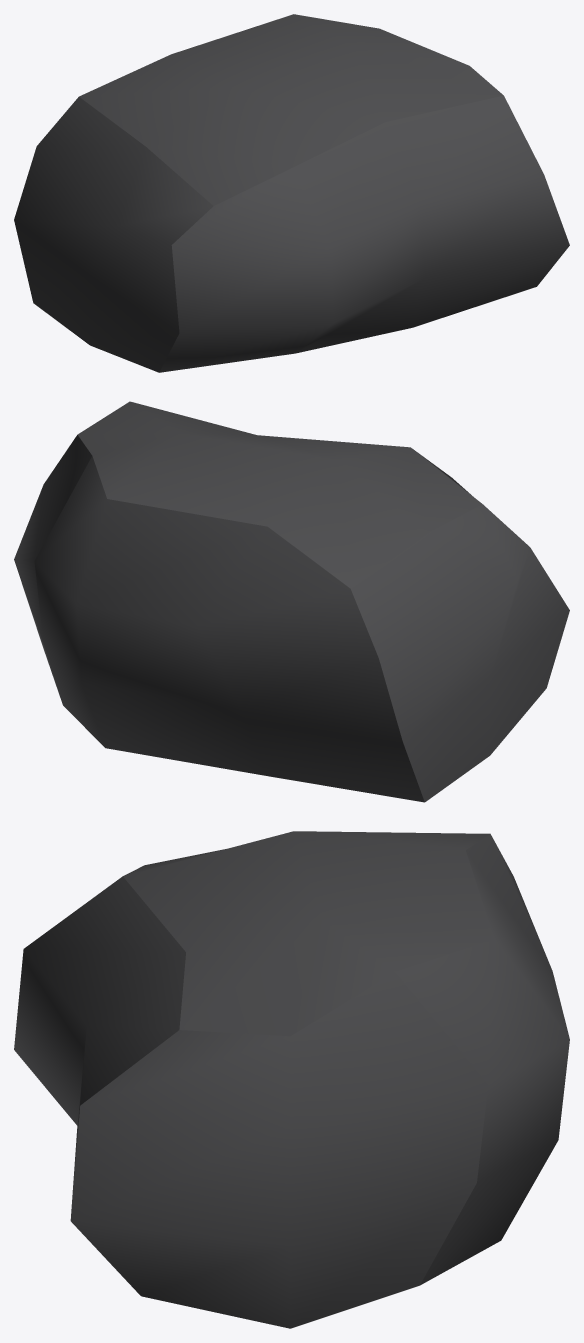
File: Asset_Rock_Mesh.fbx
3 views of the same model, one above another, from view 1: azimuth 30°, elevation 25°; view 2: azimuth 150°, elevation 25°; view 3: azimuth 270°, elevation 25° (orthographic). The views are drawn at different scales.
Visible parts, largest first — view 1: Asset_Rock1; view 2: Asset_Rock1; view 3: Asset_Rock1.
Boxes of the visible parts, box(x1,y1,x2,y2) form: Asset_Rock1: box(14, 14, 569, 372); Asset_Rock1: box(14, 401, 569, 802); Asset_Rock1: box(14, 831, 569, 1328).
Bounding box in the file's own units: 0.0388 × 0.0201 × 0.0317.
